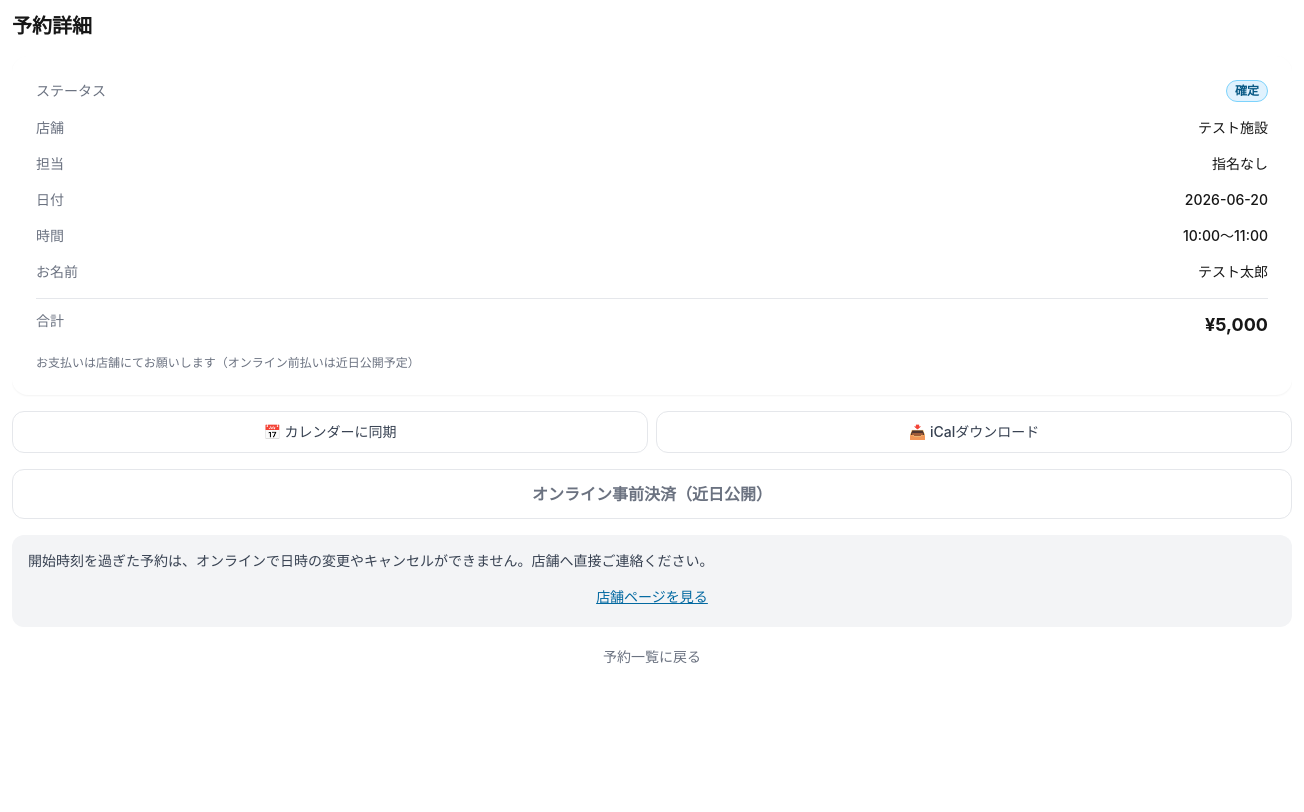
Scenario: a same-kind busy operation is adopted for result reconciliation
Click the button "📅 カレンダーに同期" at (330, 432), box left=12, top=411, right=648, bottom=453
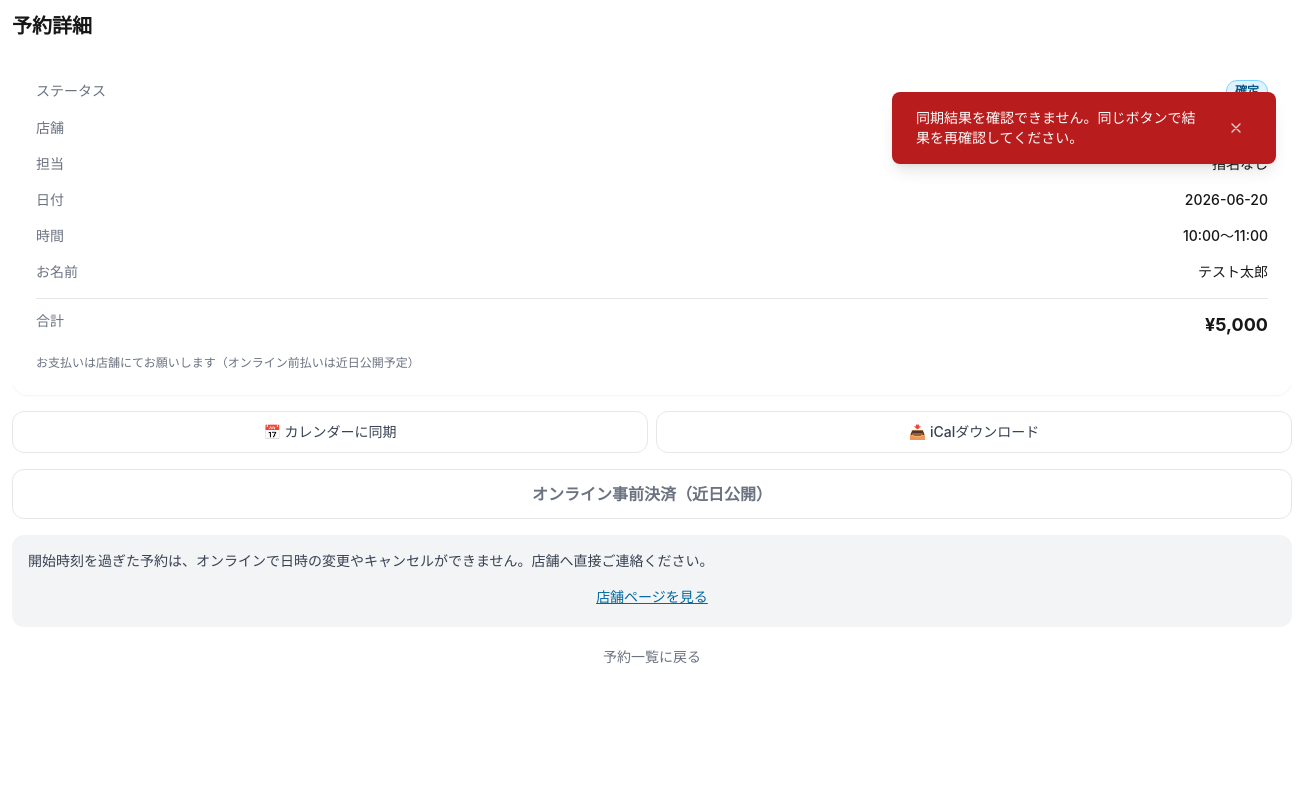
Check: the text "同期結果を確認できません。同じボタンで結果を再確認してください。" is shown, box left=916, top=108, right=1208, bottom=148
